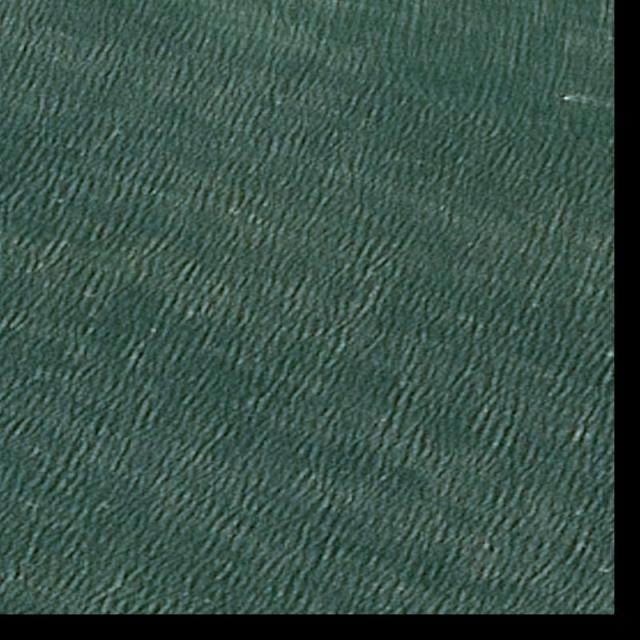ship: (560, 94, 571, 102)
